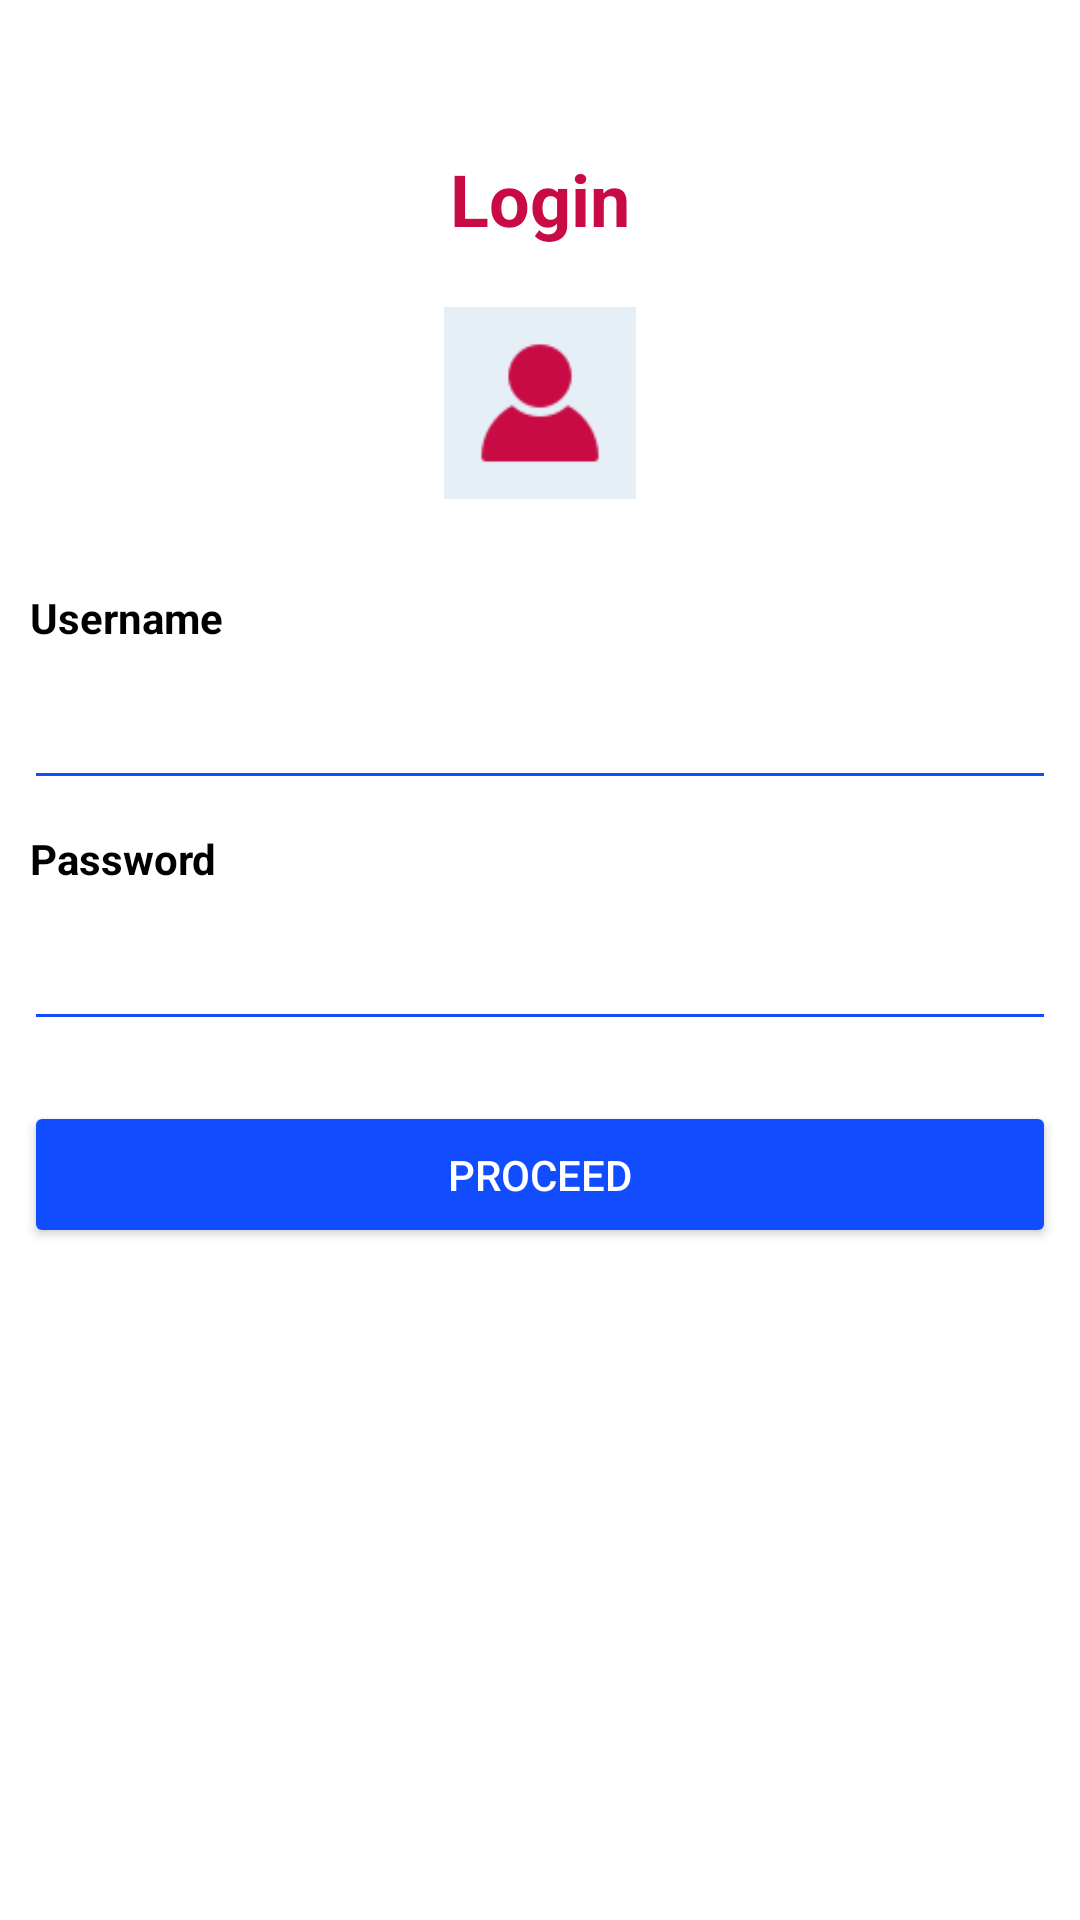

Screen size 1080 x 1920. Icon name, then its center in pixels as (x,y):
user: (540,403)
